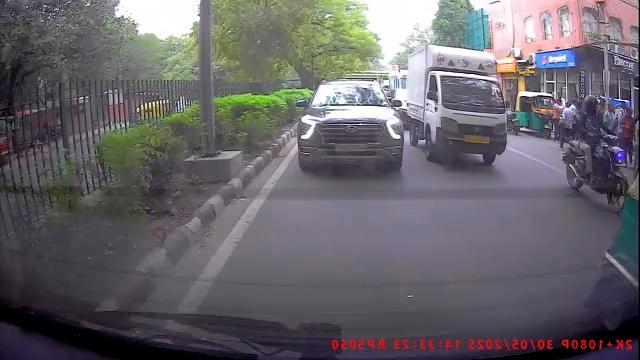motorcycle_with_helmet: (562, 93, 630, 212)
passenger_with_helmet: (562, 93, 630, 212)
